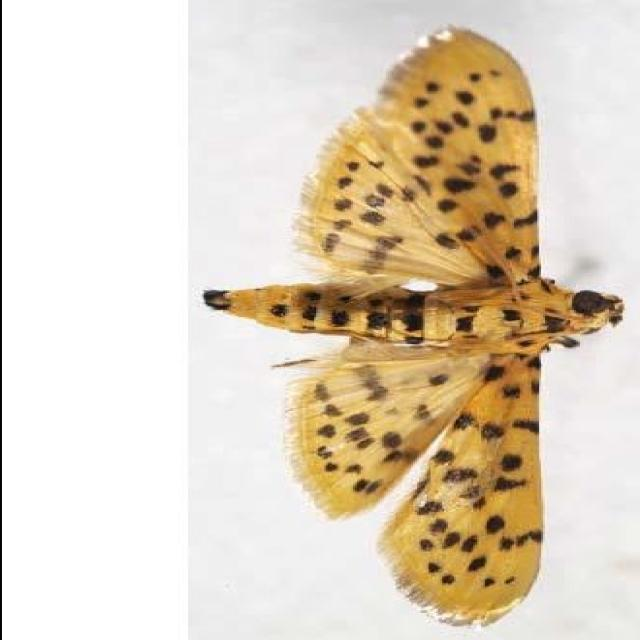peach borer: (199, 22, 629, 632)
